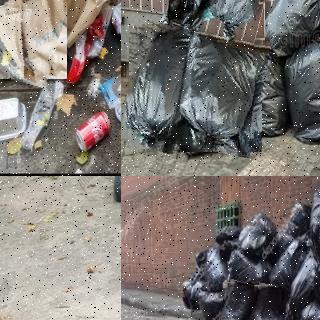Garbage: (175, 30, 267, 155), (121, 21, 198, 152), (0, 0, 76, 83), (282, 37, 320, 145), (153, 0, 221, 54), (202, 0, 270, 48), (258, 0, 320, 52), (234, 212, 276, 258), (220, 280, 257, 320), (194, 246, 226, 290), (251, 283, 289, 320), (280, 201, 310, 236), (181, 276, 208, 308), (311, 183, 320, 245), (293, 300, 320, 320)
